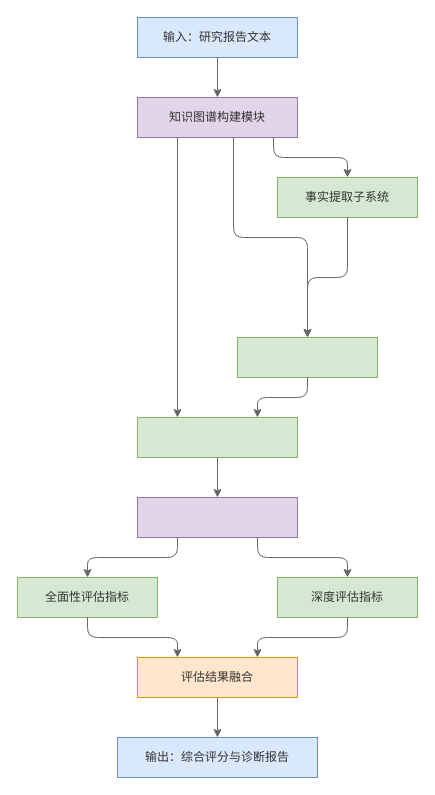
Some shapes in this 435 by 795 pixel diagram are drawn without their labels. Here are the shapes that lost their labels. From the top down, the centre of each, then its label:
At pixel 307 357: "推理识别子系统".
At pixel 217 437: "图谱构建子系统".
At pixel 217 517: "量化指标体系模块".
